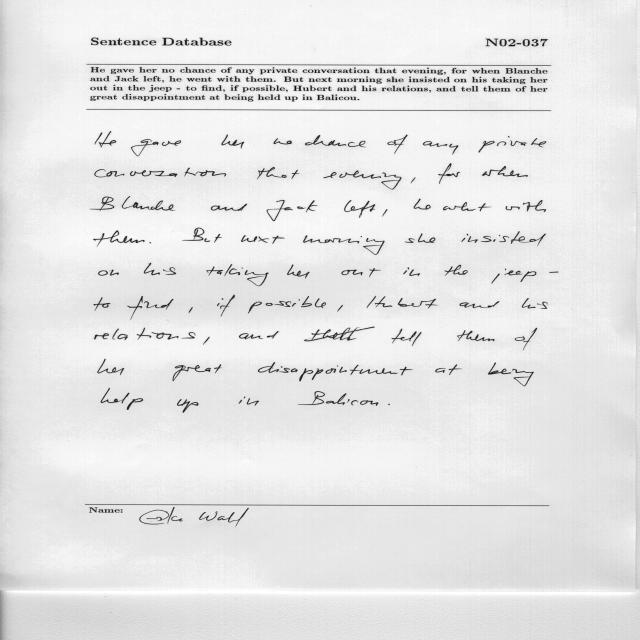word: (258, 362, 412, 381), (304, 327, 421, 346), (303, 235, 385, 255), (324, 171, 402, 190), (206, 264, 269, 286), (248, 296, 326, 313), (95, 168, 226, 178), (90, 196, 175, 211), (461, 231, 546, 246), (95, 328, 196, 340), (298, 391, 378, 406), (479, 136, 547, 153), (128, 296, 174, 320), (488, 363, 534, 387), (267, 200, 317, 221), (101, 388, 143, 410), (94, 230, 145, 247), (367, 296, 438, 308), (131, 139, 181, 156), (173, 365, 222, 382), (305, 135, 366, 147), (492, 269, 537, 284), (182, 228, 222, 243), (345, 200, 376, 218), (257, 167, 300, 179), (482, 166, 528, 177), (423, 141, 458, 155), (515, 328, 537, 350), (506, 200, 546, 212), (443, 202, 492, 211), (438, 164, 460, 184), (457, 330, 495, 341), (98, 359, 124, 375), (388, 135, 408, 155), (241, 235, 285, 244), (144, 263, 176, 275), (217, 295, 235, 316), (341, 268, 381, 277), (95, 131, 116, 148), (221, 135, 244, 149), (287, 265, 310, 279), (239, 331, 279, 339), (177, 399, 199, 413), (405, 233, 435, 243), (522, 298, 548, 309), (460, 301, 500, 308), (435, 365, 462, 375), (445, 265, 468, 276), (211, 204, 247, 211), (94, 297, 110, 311), (238, 397, 259, 406), (414, 199, 431, 210), (403, 267, 420, 276), (99, 270, 119, 276), (273, 138, 292, 144), (203, 337, 210, 345), (337, 305, 343, 312), (383, 209, 388, 217), (411, 178, 415, 184), (189, 307, 193, 313), (549, 271, 559, 273), (150, 242, 151, 244), (388, 404, 390, 405)
